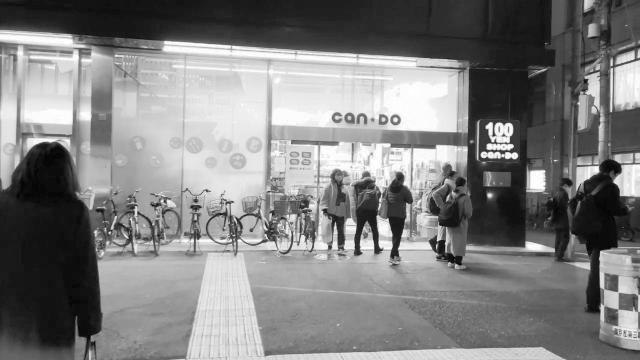berdiri: (572, 154, 640, 314), (434, 158, 471, 274), (548, 174, 574, 256)
berjalan: (384, 170, 418, 268), (355, 168, 381, 262)
